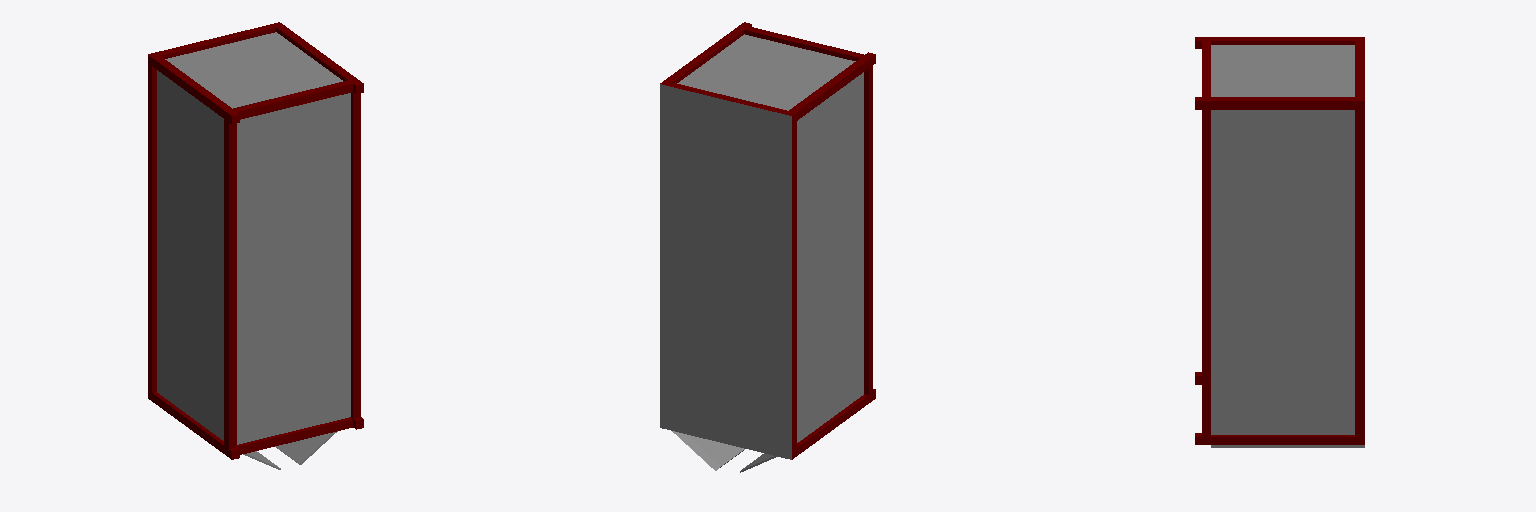
The model's file is 170607_tool_container.obj.
3 views of the same model, side by side, from view 1: azimuth 30°, elevation 25°; view 2: azimuth 150°, elevation 25°; view 3: azimuth 270°, elevation 25° (orthographic).
Parts seen in each view (by area): view 1: _tool_container:Magazin1; view 2: _tool_container:Magazin1; view 3: _tool_container:Magazin1.
Part boxes in pixels (bbox=[...]): _tool_container:Magazin1: bbox=[148, 22, 363, 469]; _tool_container:Magazin1: bbox=[660, 22, 875, 472]; _tool_container:Magazin1: bbox=[1195, 37, 1364, 447].
Bounding box in the file's own units: 2.44 × 6.59 × 2.7.